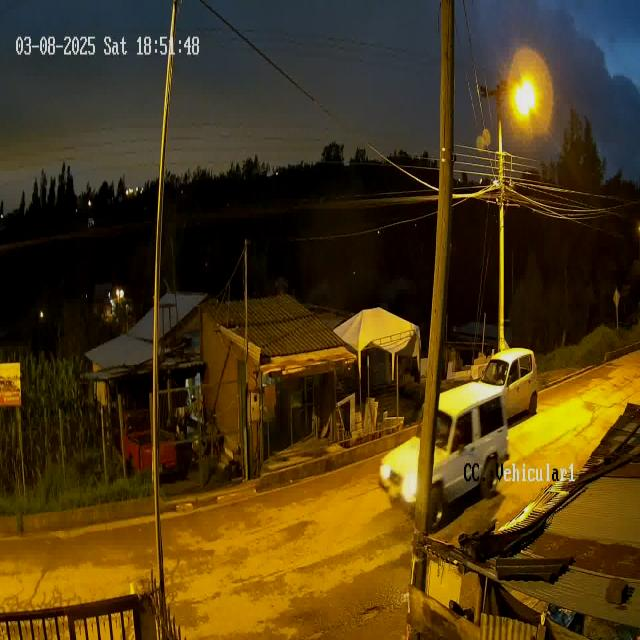SUV: (380, 380, 508, 520)
